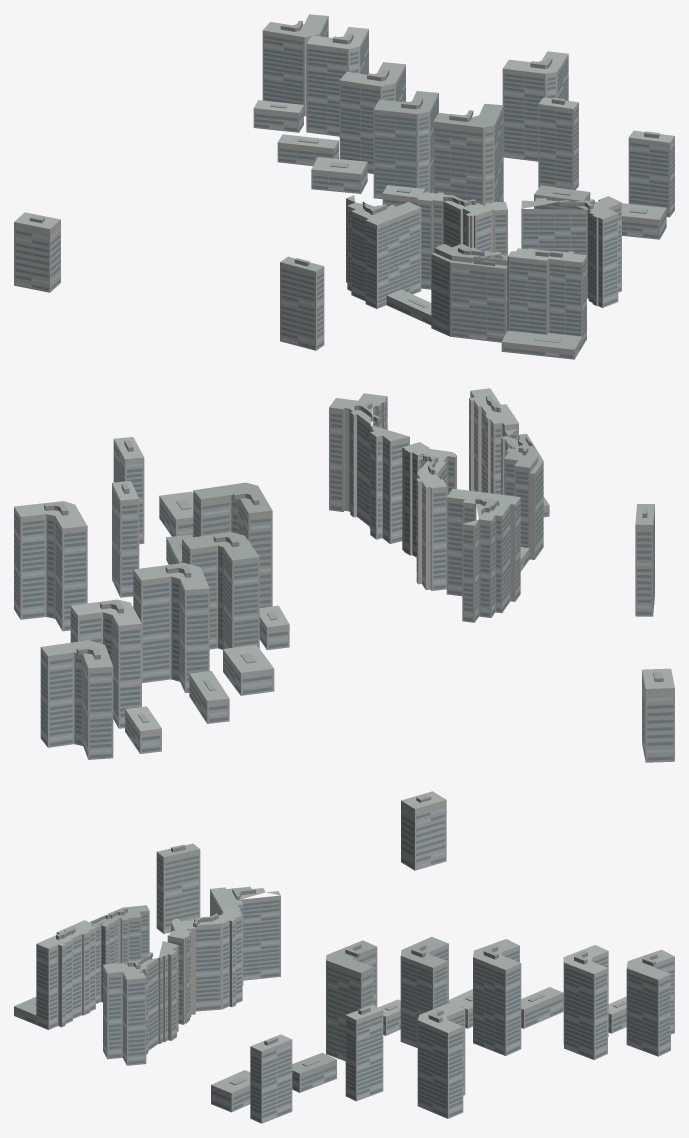
Rendered from apt-a10027816.glb.
3 views of the same model, one above another, from view 1: azimuth 30°, elevation 25°; view 2: azimuth 150°, elevation 25°; view 3: azimuth 270°, elevation 25° (orthographic). The views are drawn at different scales.
Parts seen in each view (by area): view 1: apt-a10027816; view 2: apt-a10027816; view 3: apt-a10027816.
Boxes of the visible parts, left/top/right/bottom form: apt-a10027816: left=14, top=14, right=674, bottom=359; apt-a10027816: left=14, top=388, right=674, bottom=762; apt-a10027816: left=14, top=791, right=674, bottom=1123.
Bounding box in the file's own units: 369 × 62 × 380.
